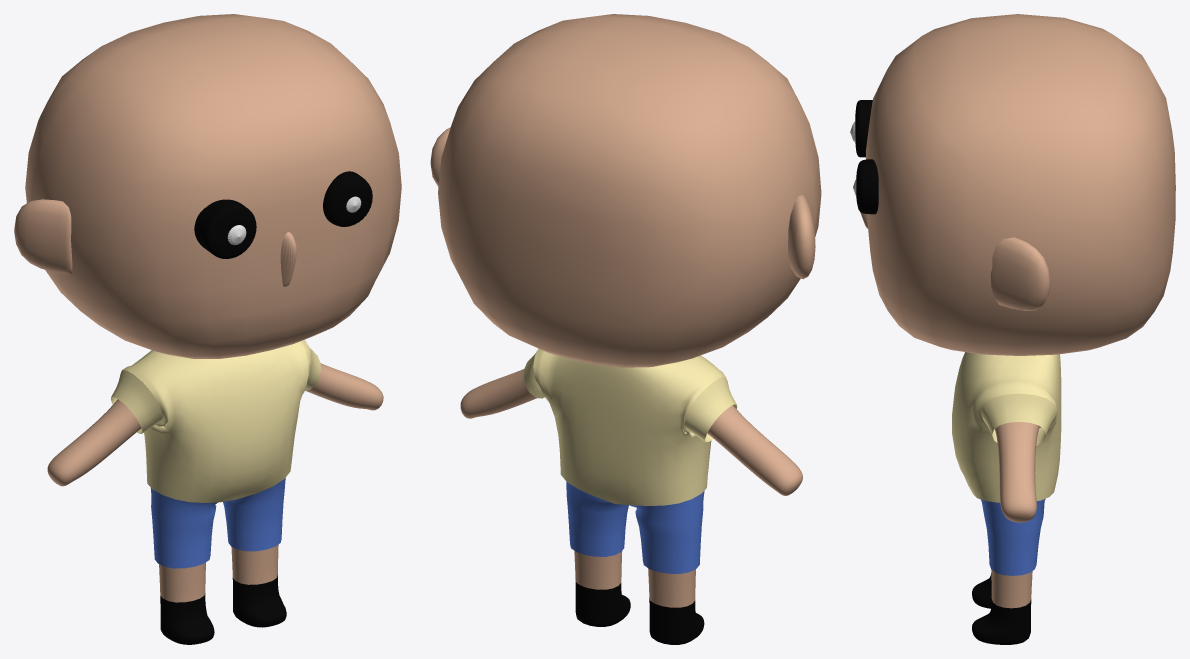
File: CharacterFinal(NoHair).fbx
3 renders of one model, left to right at view 1: azimuth 30°, elevation 25°; view 2: azimuth 150°, elevation 25°; view 3: azimuth 270°, elevation 25°, orthographic. The views are drawn at different scales.
Visible parts, largest first — view 1: Body; view 2: Body; view 3: Body.
Boxes of the visible parts, x1,y1,x2,y2 form: Body: (14,14,401,644); Body: (430,14,821,644); Body: (850,14,1175,644).
Bounding box in the file's own units: 307 × 457 × 234.
